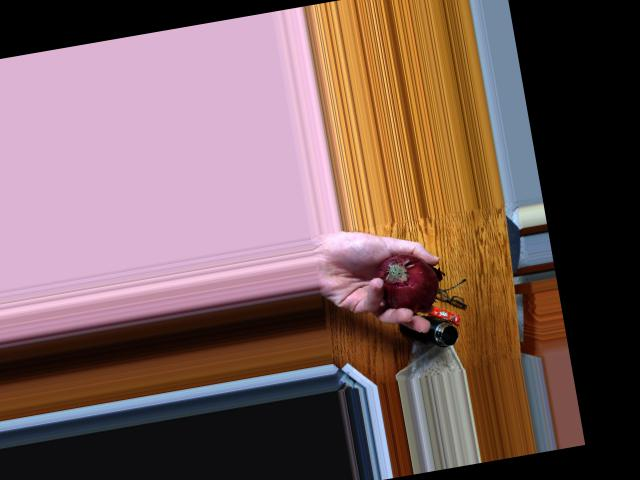onion: (366, 248, 442, 318)
